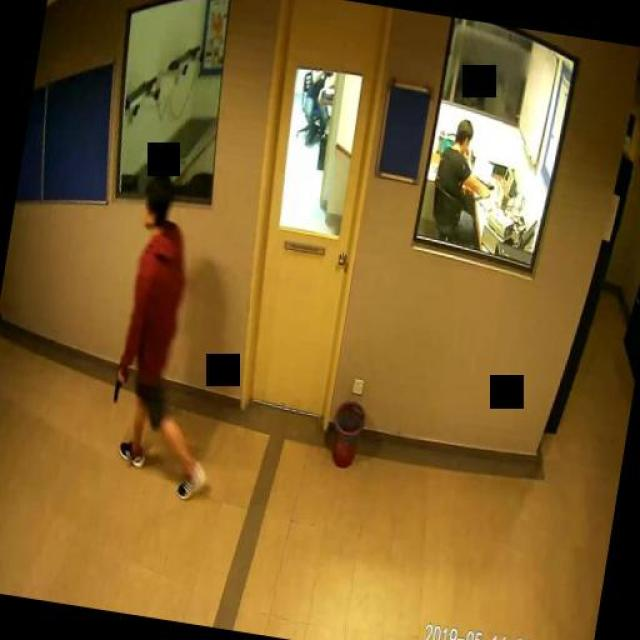gun: (110, 362, 128, 402)
